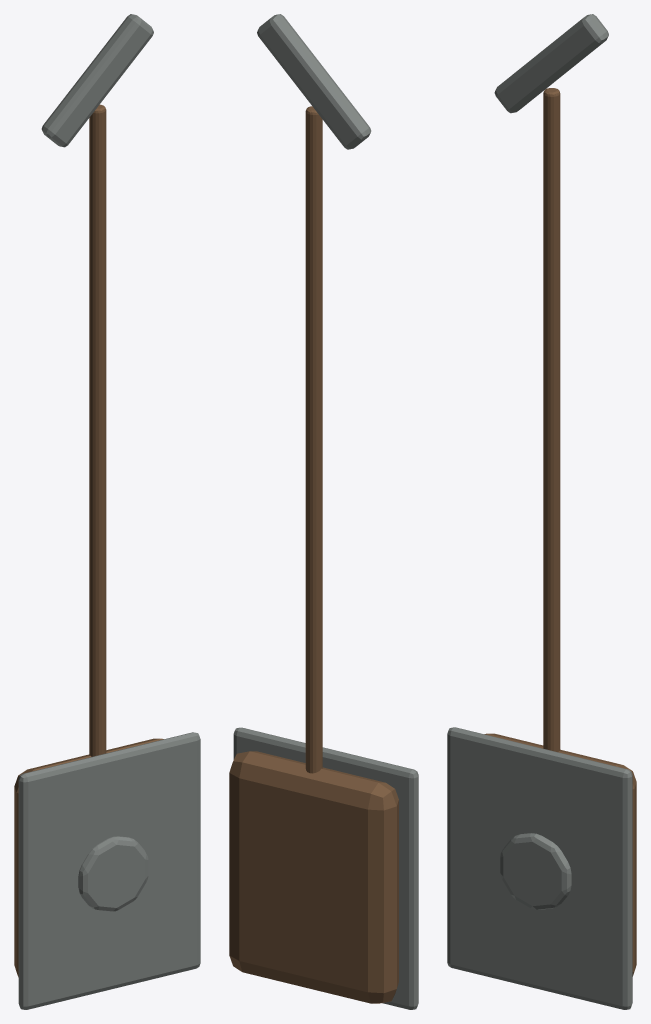
Rendered from barrosan_spear_guard_accessories.glb.
3 views of the same model, side by side, from view 1: azimuth 30°, elevation 25°; view 2: azimuth 150°, elevation 25°; view 3: azimuth 330°, elevation 25° (orthographic).
Parts seen in each view (by area): view 1: ShieldShieldRim, SpearSpearShaft, SpearSpearHead, ShieldShieldBoss, ShieldShieldFace; view 2: ShieldShieldFace, SpearSpearShaft, ShieldShieldRim, SpearSpearHead; view 3: ShieldShieldRim, SpearSpearShaft, ShieldShieldBoss, SpearSpearHead, ShieldShieldFace.
Part boxes in pixels (box(x1,y1,x2,y2)): ShieldShieldRim: box(18, 732, 200, 1009); SpearSpearShaft: box(89, 104, 106, 756); SpearSpearHead: box(41, 14, 153, 147); ShieldShieldBoss: box(78, 836, 148, 911); ShieldShieldFace: box(14, 738, 163, 977); ShieldShieldFace: box(229, 751, 398, 1003); SpearSpearShaft: box(305, 106, 322, 773); ShieldShieldRim: box(233, 727, 418, 1009); SpearSpearHead: box(257, 14, 371, 149); ShieldShieldRim: box(447, 727, 632, 1009); SpearSpearShaft: box(543, 88, 560, 752); ShieldShieldBoss: box(500, 833, 571, 909); SpearSpearHead: box(494, 14, 608, 113); ShieldShieldFace: box(484, 733, 636, 976).
Size of the model in its own units: 0.8 by 4.05 by 0.225.
